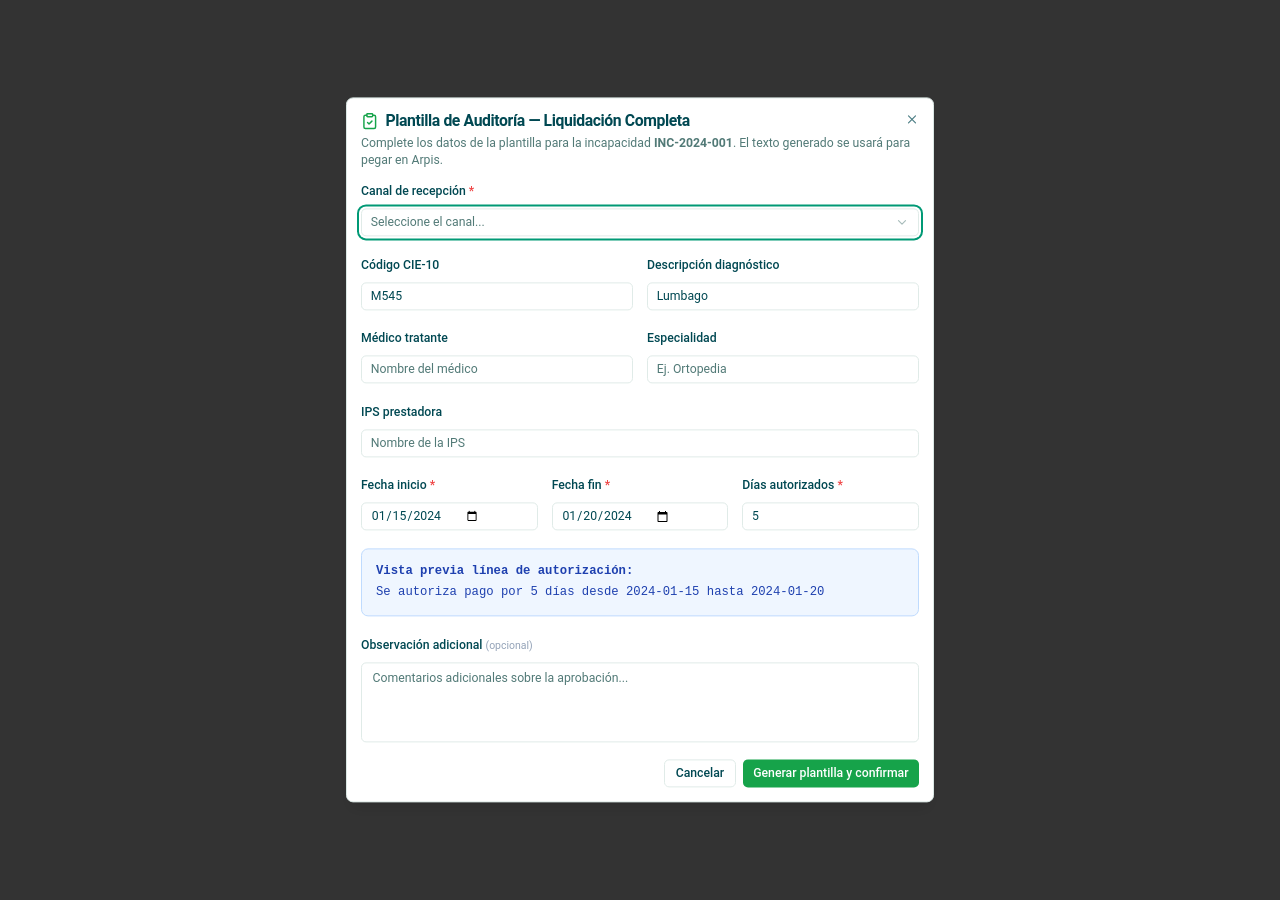
Test: AuditorApprovalTemplateModal › shows validation error when canal_recepcion is not selected
Click the button "Generar plantilla y confirmar" at (831, 774), box 743,760 -> 919,788
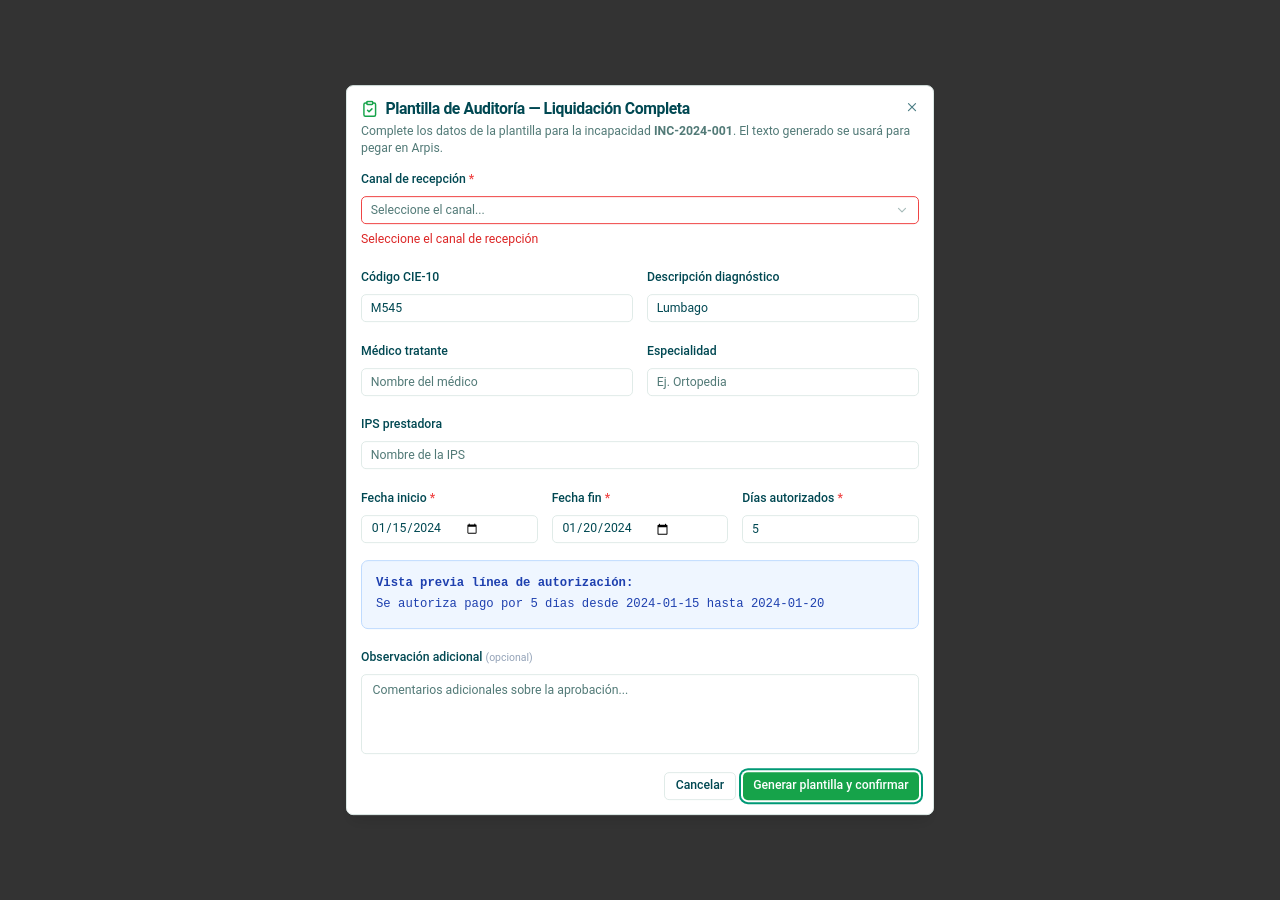
Now the text "Seleccione el canal de recepción" is shown, box 361,232 -> 538,246
